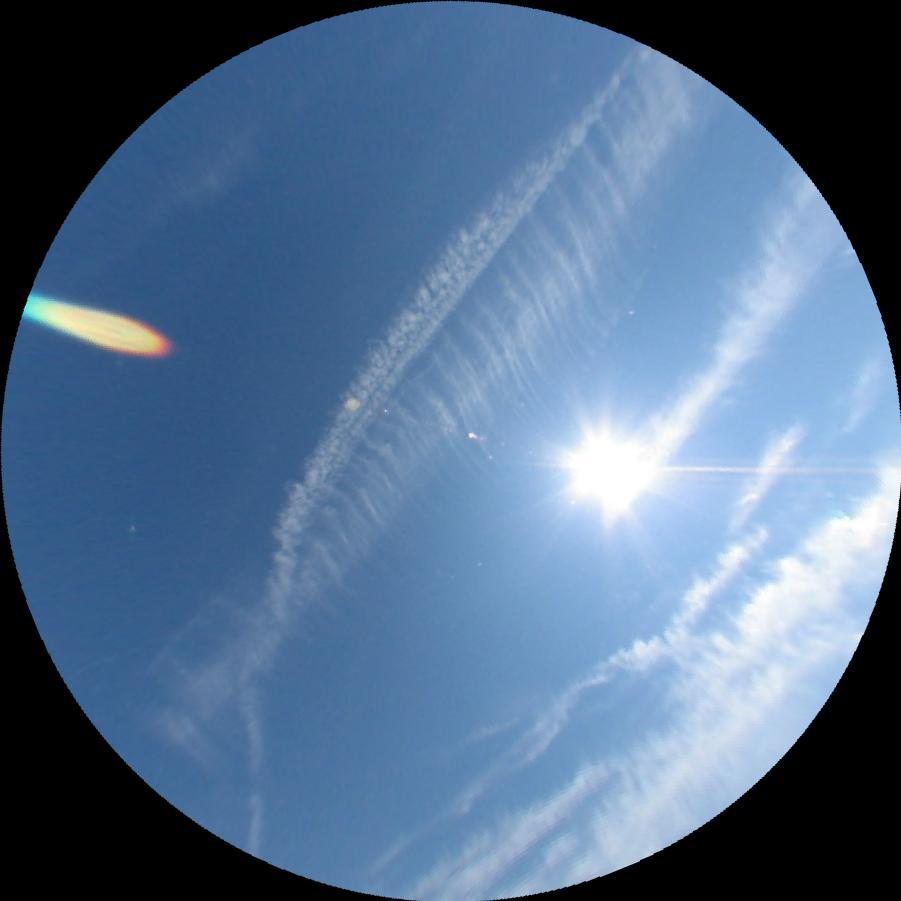contrail veryold: (92, 42, 781, 834), (123, 0, 649, 851), (547, 169, 858, 569)
parasite: (653, 462, 900, 472)
sun: (571, 422, 659, 509)
